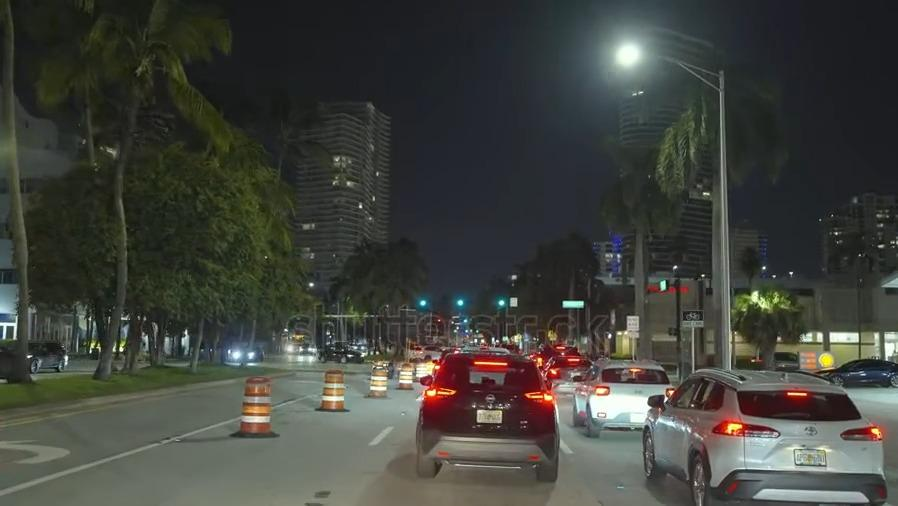car: (641, 365, 891, 506), (412, 351, 562, 485), (570, 358, 671, 435), (813, 355, 898, 387), (541, 353, 591, 393), (14, 341, 71, 374), (317, 342, 362, 366), (228, 345, 264, 363), (409, 343, 438, 361)
cone: (228, 372, 278, 441), (317, 368, 345, 411), (364, 362, 388, 398), (397, 361, 409, 391)
traffic light: (490, 293, 525, 313), (411, 295, 438, 311), (451, 295, 475, 310)
wheel: (685, 449, 712, 506), (641, 423, 659, 478)
